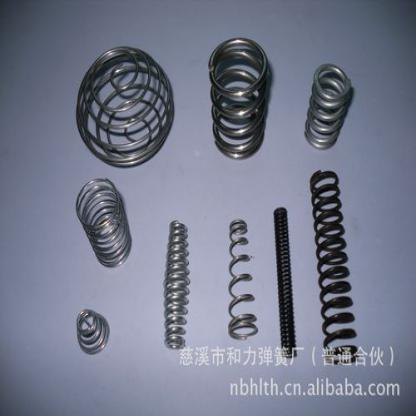FOD: (308, 166, 361, 368), (208, 35, 270, 160), (74, 175, 134, 272), (303, 63, 353, 151), (272, 204, 299, 363), (227, 223, 260, 344), (162, 218, 190, 356), (75, 308, 111, 358)
